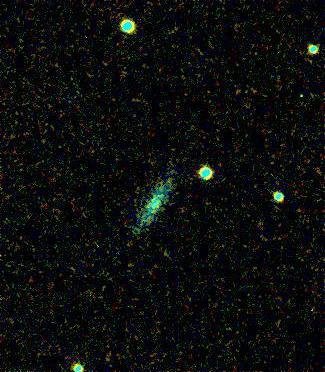star: (284, 81, 314, 111)
